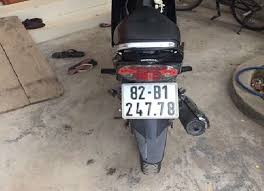Bien-so: (122, 81, 180, 120)
